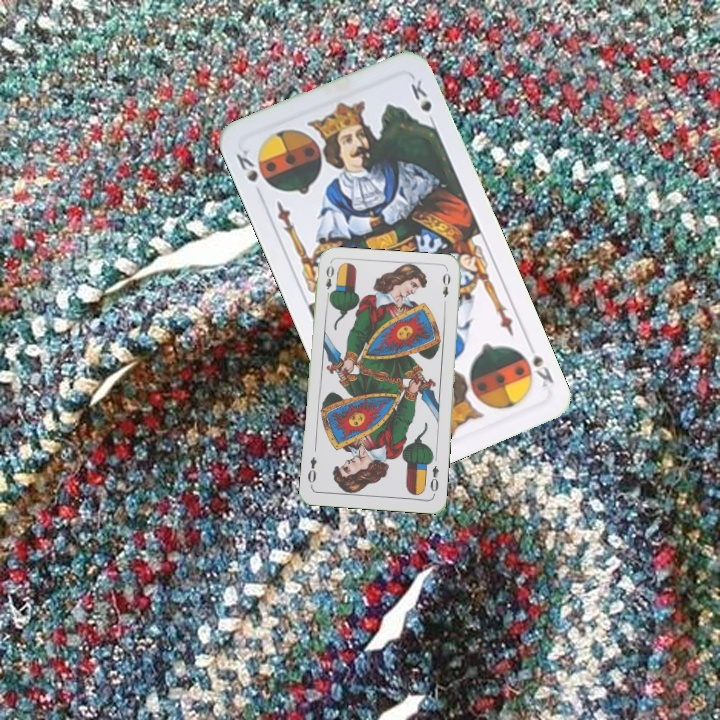EO: (321, 261, 336, 301), (426, 462, 441, 498)
SK: (514, 338, 557, 390), (232, 145, 261, 185)
